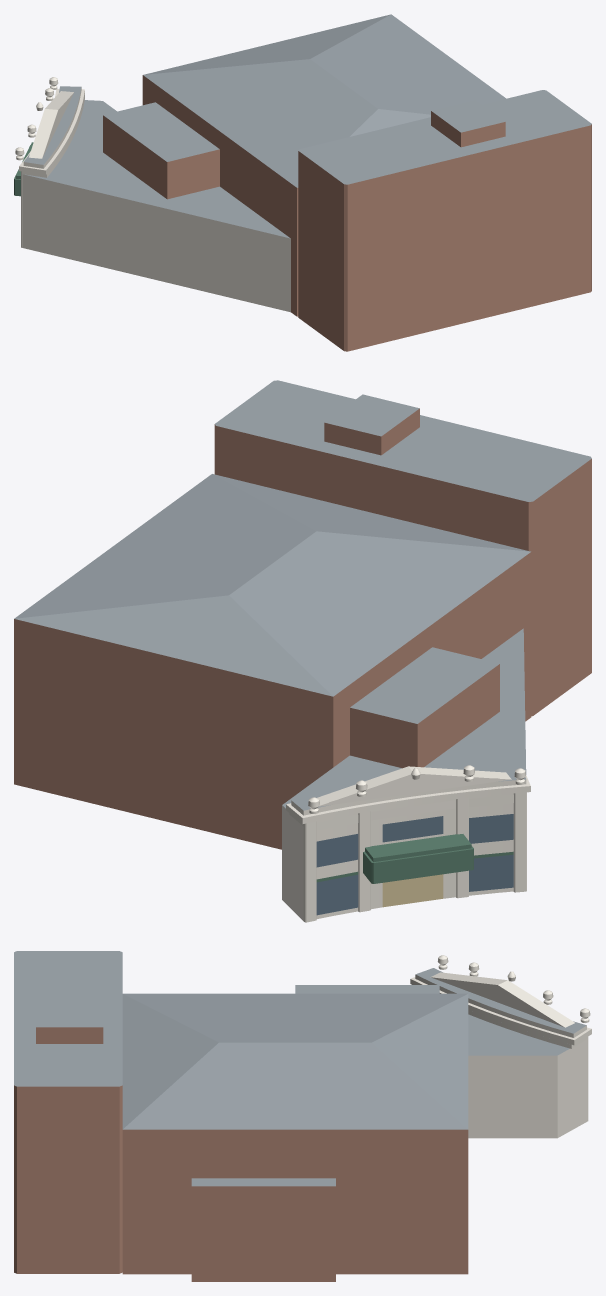
Rendered from indy-hilbert-circle-theatre.glb.
The picture shows the model from 3 angles, top to bottom: view 1: azimuth 30°, elevation 25°; view 2: azimuth 150°, elevation 25°; view 3: azimuth 270°, elevation 25°; orthographic projection. The views are drawn at different scales.
Parts seen in each view (by area): view 1: Hilbert Circle Theatre; view 2: Hilbert Circle Theatre; view 3: Hilbert Circle Theatre.
Part boxes in pixels (bbox=[...]): Hilbert Circle Theatre: bbox=[14, 14, 591, 351]; Hilbert Circle Theatre: bbox=[14, 380, 591, 922]; Hilbert Circle Theatre: bbox=[14, 951, 591, 1281].
Bounding box in the file's own units: 54.11 × 23.4 × 60.16.
